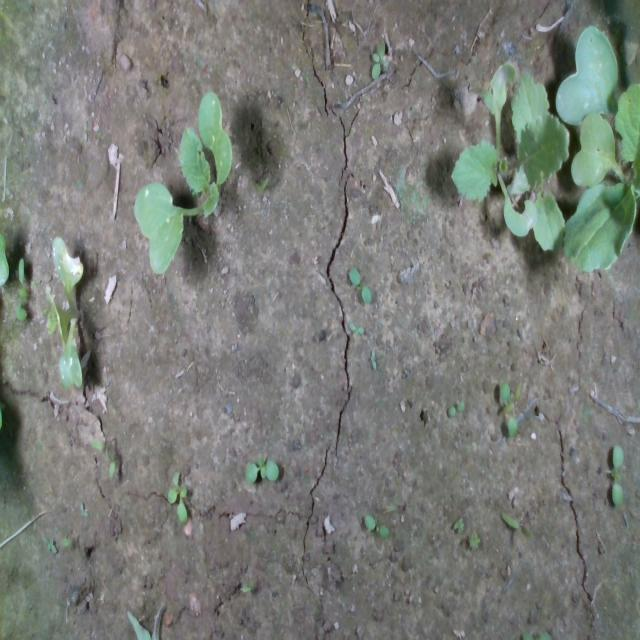weed: (166, 468, 188, 524), (244, 454, 280, 486), (348, 265, 372, 305), (611, 441, 624, 509), (362, 511, 390, 539), (369, 36, 386, 81), (446, 398, 465, 418), (347, 321, 363, 337), (368, 346, 376, 372)
